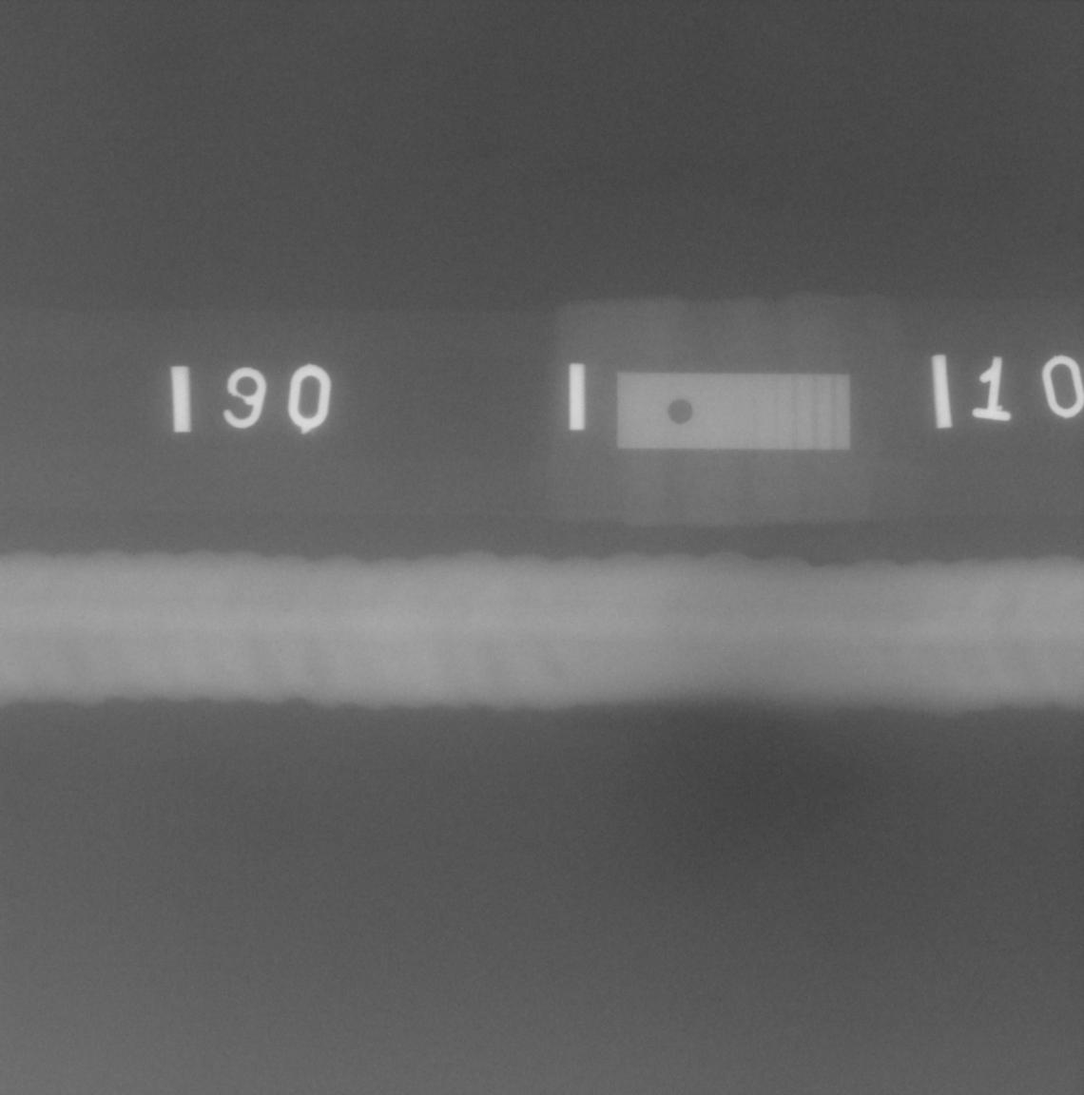Pore/Porosity: (284, 608, 288, 612), (80, 616, 83, 619)
Reference Standard 1: (617, 372, 850, 450)
